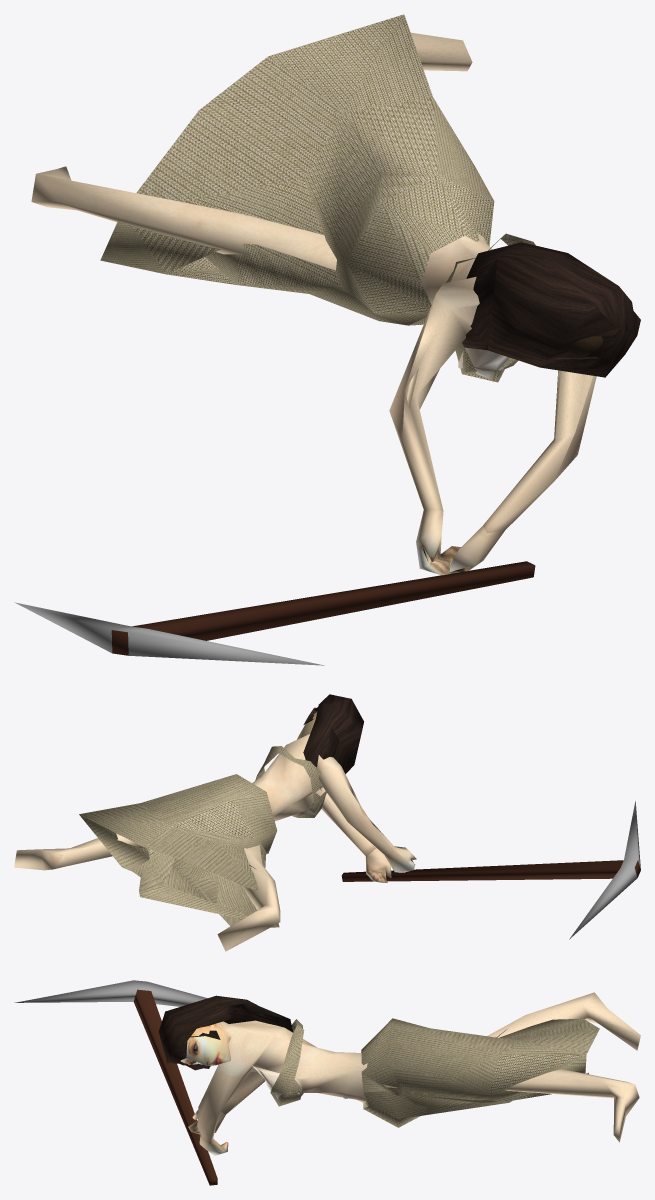
File: worker_000310.obj
3 renders of one model, top to bottom at view 1: azimuth 30°, elevation 25°; view 2: azimuth 150°, elevation 25°; view 3: azimuth 270°, elevation 25°, orthographic. The views are drawn at different scales.
Parts seen in each view (by area): view 1: saree_Cylinder, body.001_omino.012, hair.003_omino.013, miner_Cylinder.002; view 2: saree_Cylinder, body.001_omino.012, miner_Cylinder.002, hair.003_omino.013; view 3: saree_Cylinder, body.001_omino.012, miner_Cylinder.002, hair.003_omino.013.
Boxes of the visible parts, x1,y1,x2,y2 form: saree_Cylinder: [100, 14, 535, 382]; body.001_omino.012: [31, 32, 603, 575]; hair.003_omino.013: [462, 242, 640, 377]; miner_Cylinder.002: [14, 561, 535, 665]; saree_Cylinder: [79, 746, 326, 927]; body.001_omino.012: [14, 712, 416, 951]; miner_Cylinder.002: [341, 801, 640, 939]; hair.003_omino.013: [303, 694, 363, 790]; saree_Cylinder: [270, 1018, 599, 1127]; body.001_omino.012: [180, 992, 640, 1155]; miner_Cylinder.002: [14, 980, 217, 1185]; hair.003_omino.013: [158, 995, 293, 1070].
Bounding box in the file's own units: 2.84 × 1.15 × 3.37.
